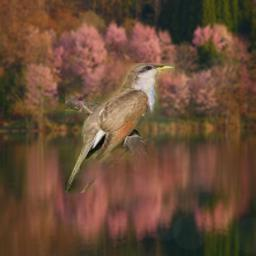Cuckoo: (65, 63, 175, 193)
